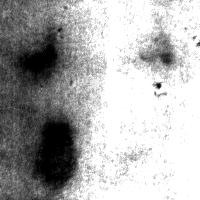patches: (1, 36, 107, 142), (33, 118, 77, 192), (18, 40, 57, 81)
